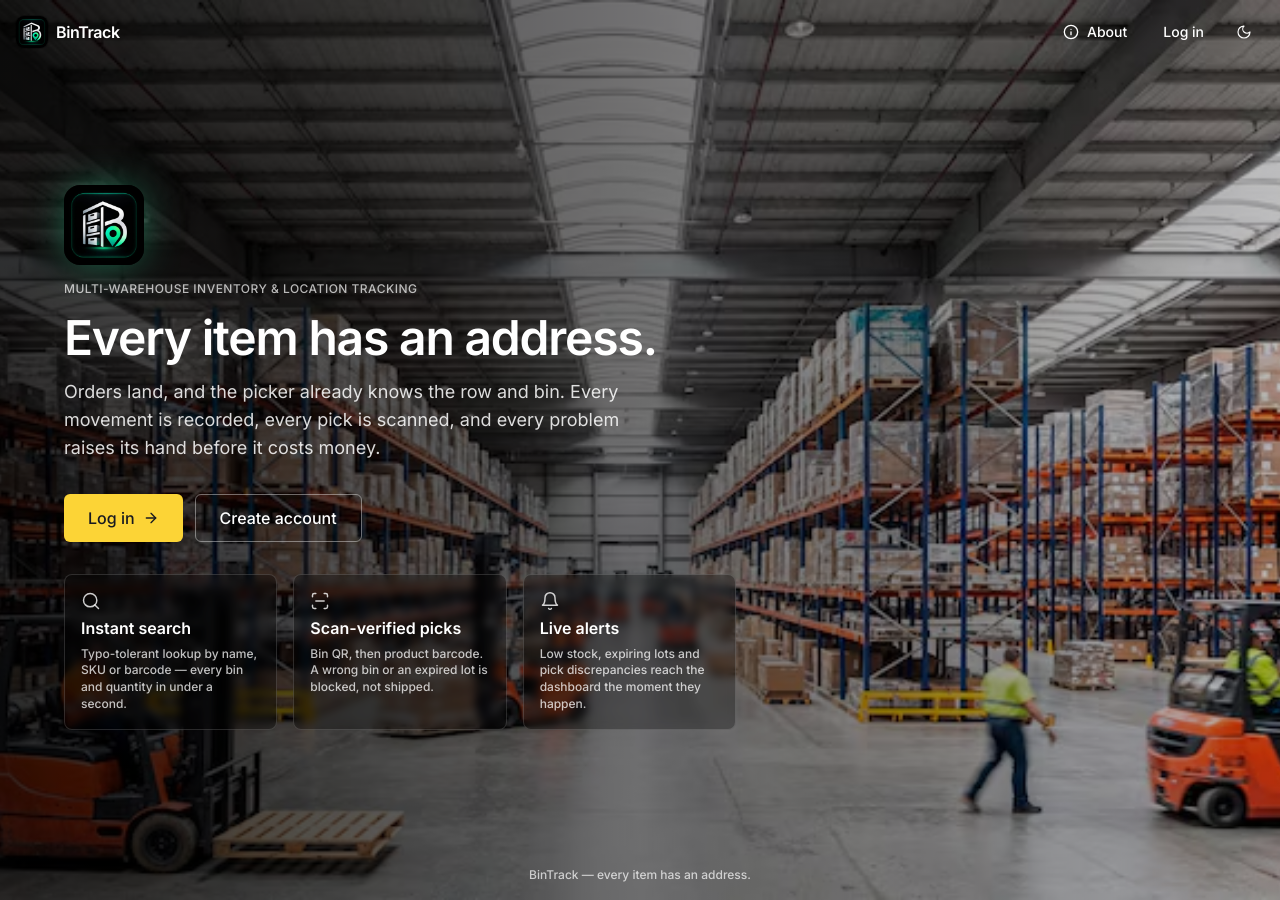
app composition › About, beside Log in, explains the project and its flow
This screenshot has width=1280, height=900.
Check: the heading "Every item has an address." is shown, box [64, 314, 736, 362]
Step 1. Click the button "About" → (1095, 32), box [1047, 12, 1143, 52]
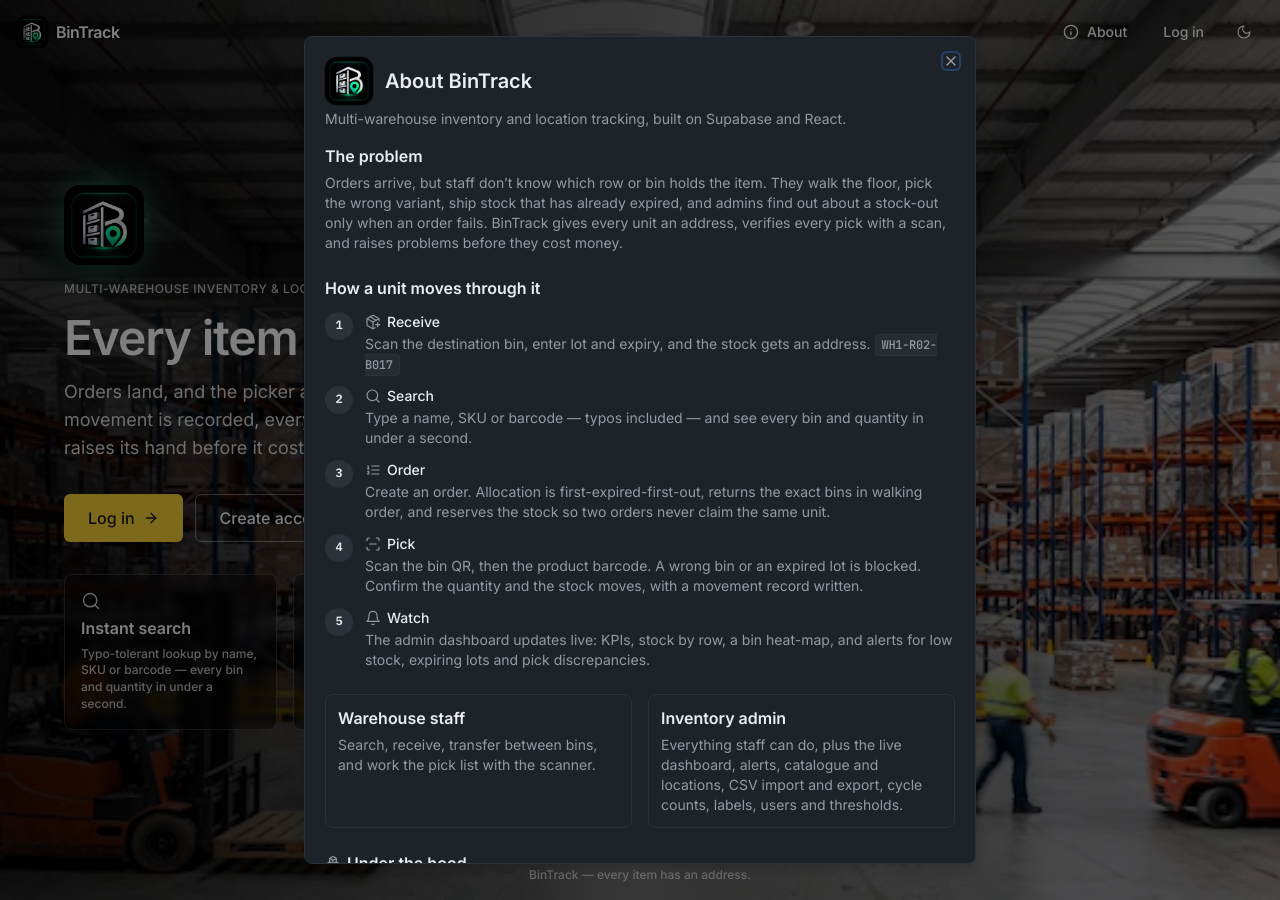
Check: the heading "About BinTrack" is shown, box [385, 68, 532, 94]
Check: the text "Receive" is shown, box [365, 313, 440, 330]
Check: the text "Search" is shown, box [365, 387, 434, 404]
